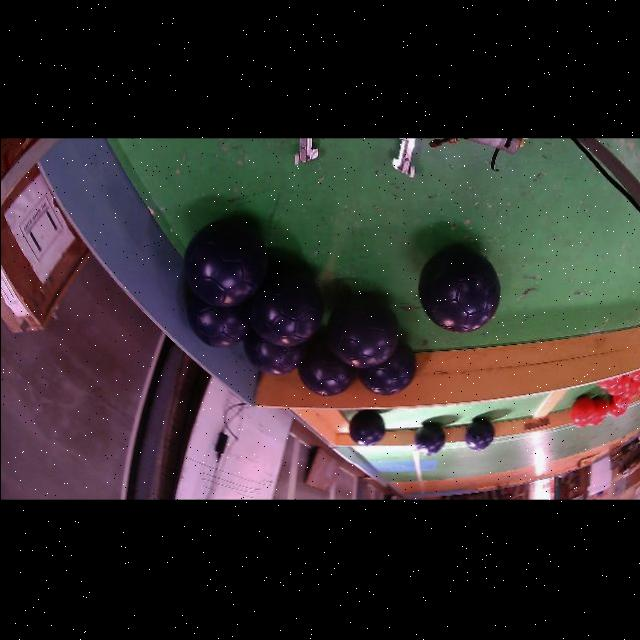B: (183, 218, 266, 305), (418, 246, 500, 331), (246, 266, 323, 345), (326, 294, 399, 367), (297, 336, 355, 395), (187, 292, 250, 346), (358, 340, 416, 394), (242, 329, 306, 374), (349, 409, 384, 445), (413, 422, 445, 455), (465, 417, 494, 450)
R: (569, 395, 594, 426), (588, 397, 607, 424), (606, 374, 631, 394), (607, 397, 626, 417), (595, 375, 621, 388), (622, 378, 640, 396), (612, 393, 631, 407), (627, 368, 640, 380)
